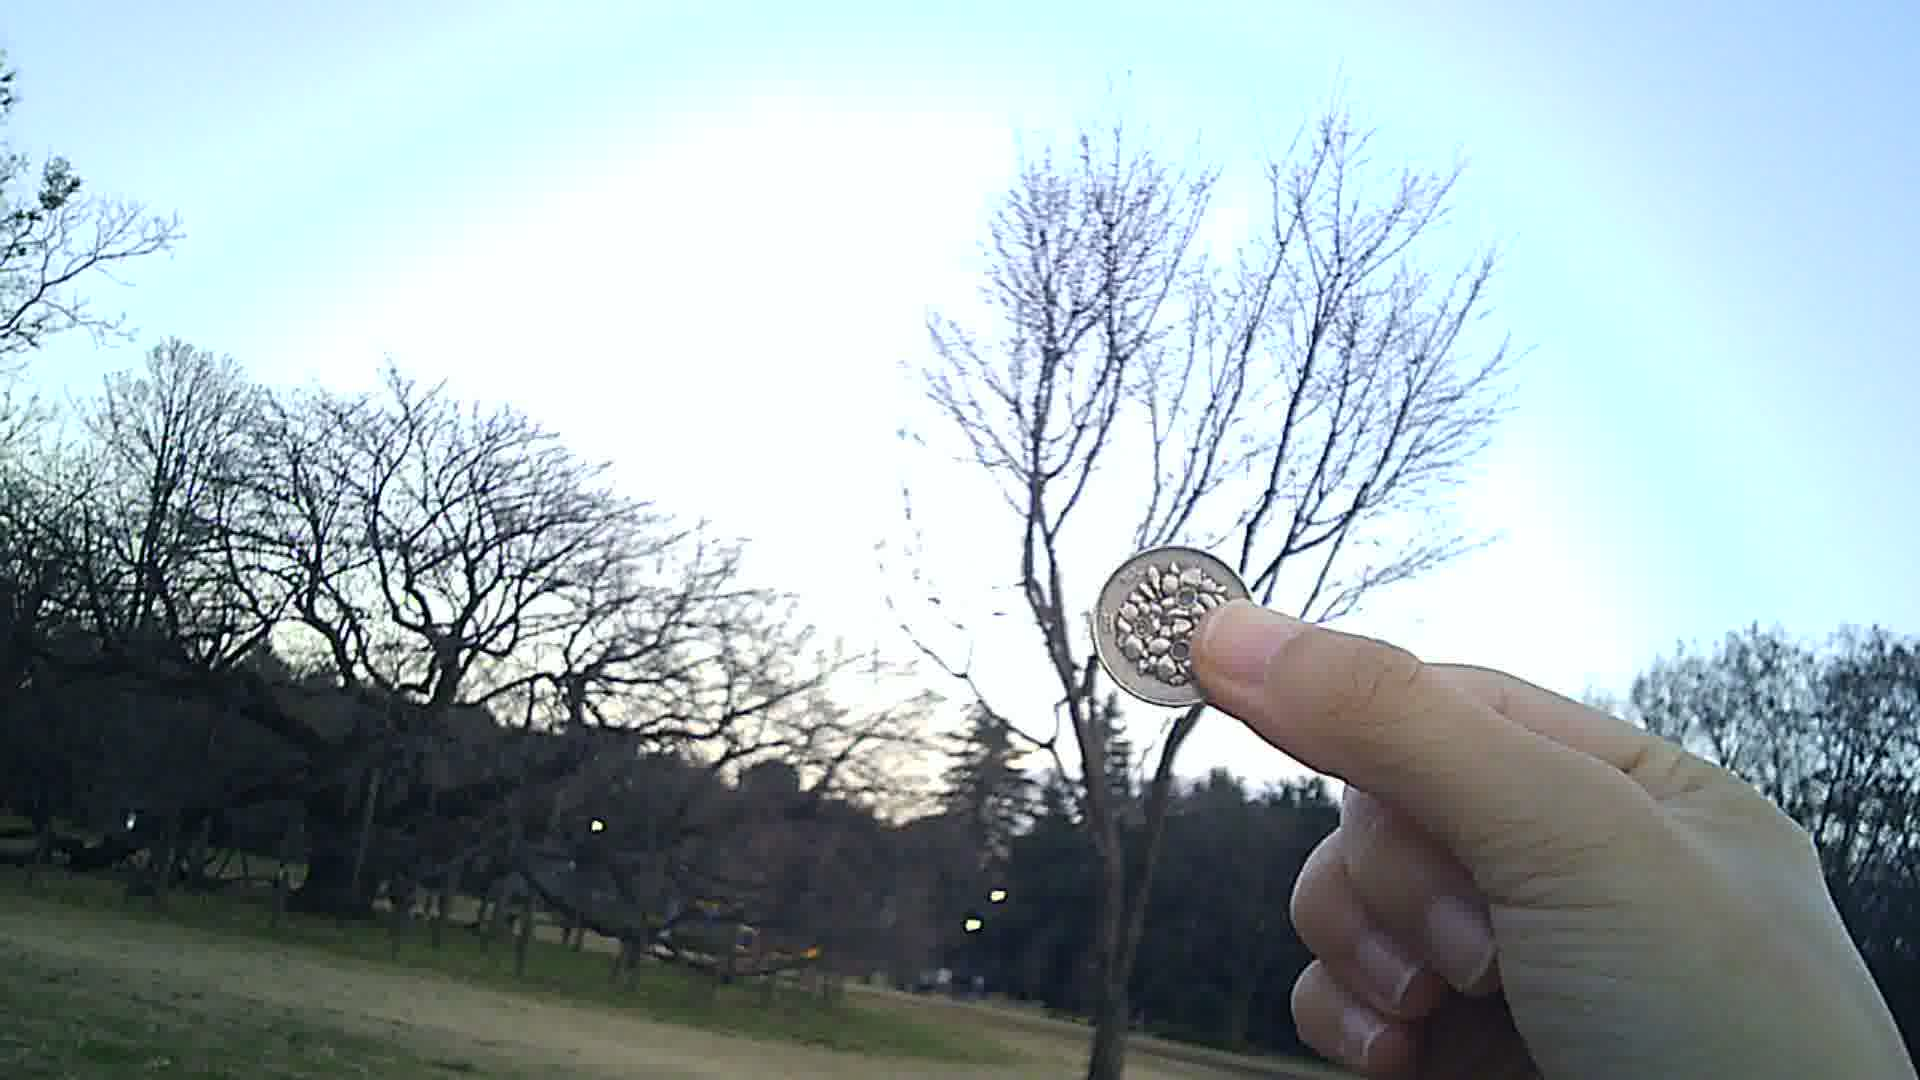100 Yen: (1083, 541, 1251, 713)
